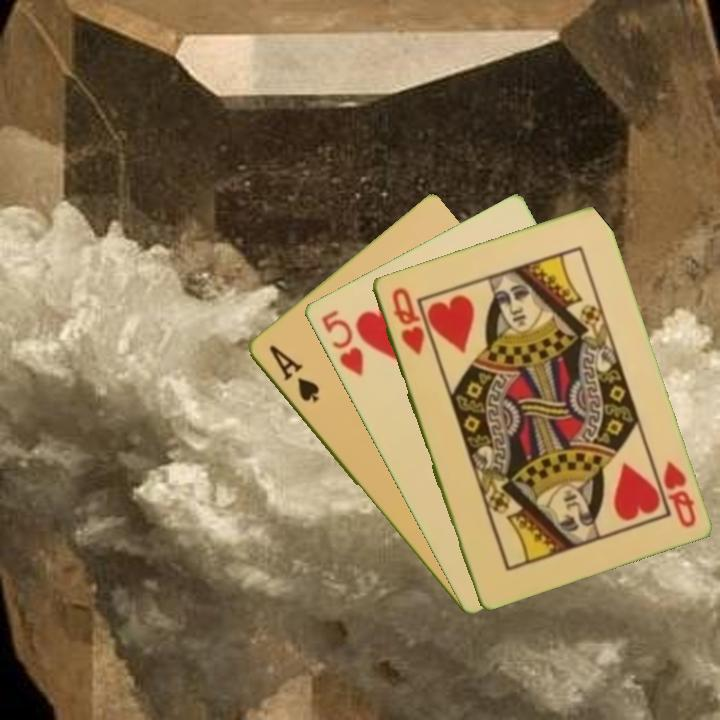5h: (317, 306, 366, 379)
As: (264, 341, 322, 405)
Qh: (659, 456, 699, 531), (388, 283, 427, 358)
